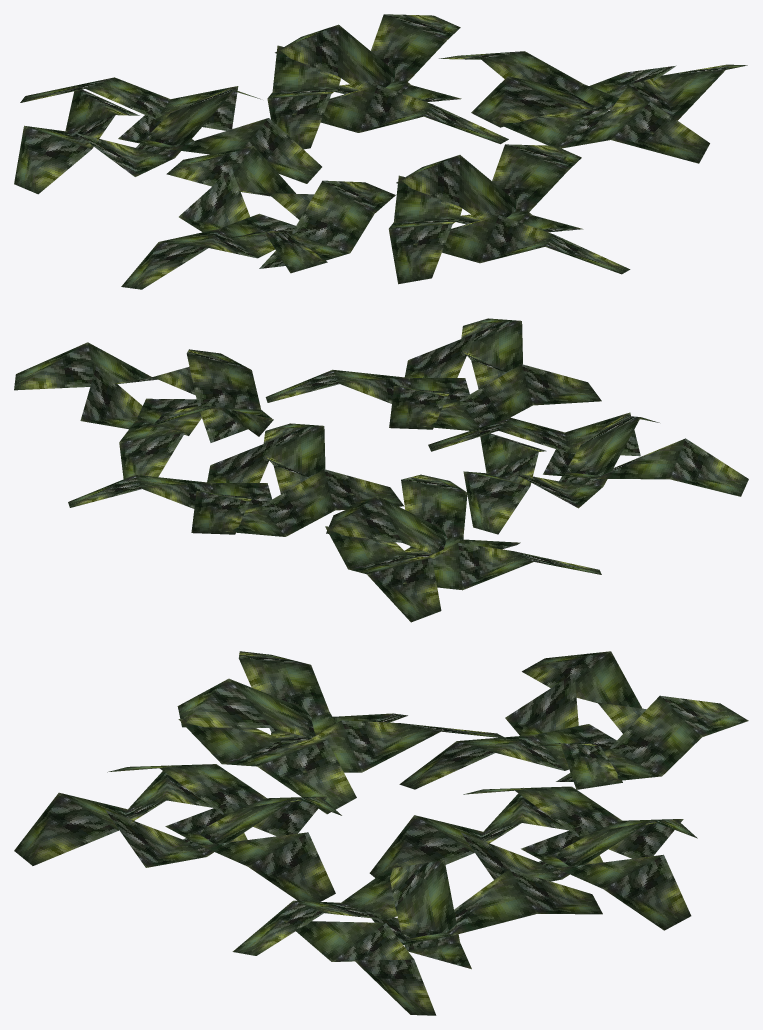
File: Grass01.obj
The picture shows the model from 3 angles, top to bottom: view 1: azimuth 30°, elevation 25°; view 2: azimuth 150°, elevation 25°; view 3: azimuth 270°, elevation 25°; orthographic projection. The views are drawn at different scales.
Parts seen in each view (by area): view 1: Mesh_0; view 2: Mesh_0; view 3: Mesh_0.
Boxes of the visible parts, left/top/right/bottom form: Mesh_0: left=14, top=14, right=747, bottom=289; Mesh_0: left=14, top=318, right=748, bottom=622; Mesh_0: left=14, top=651, right=748, bottom=1015.
Bounding box in the file's own units: 4.83 × 0.2892 × 4.09.
1 material, 1 textured.
